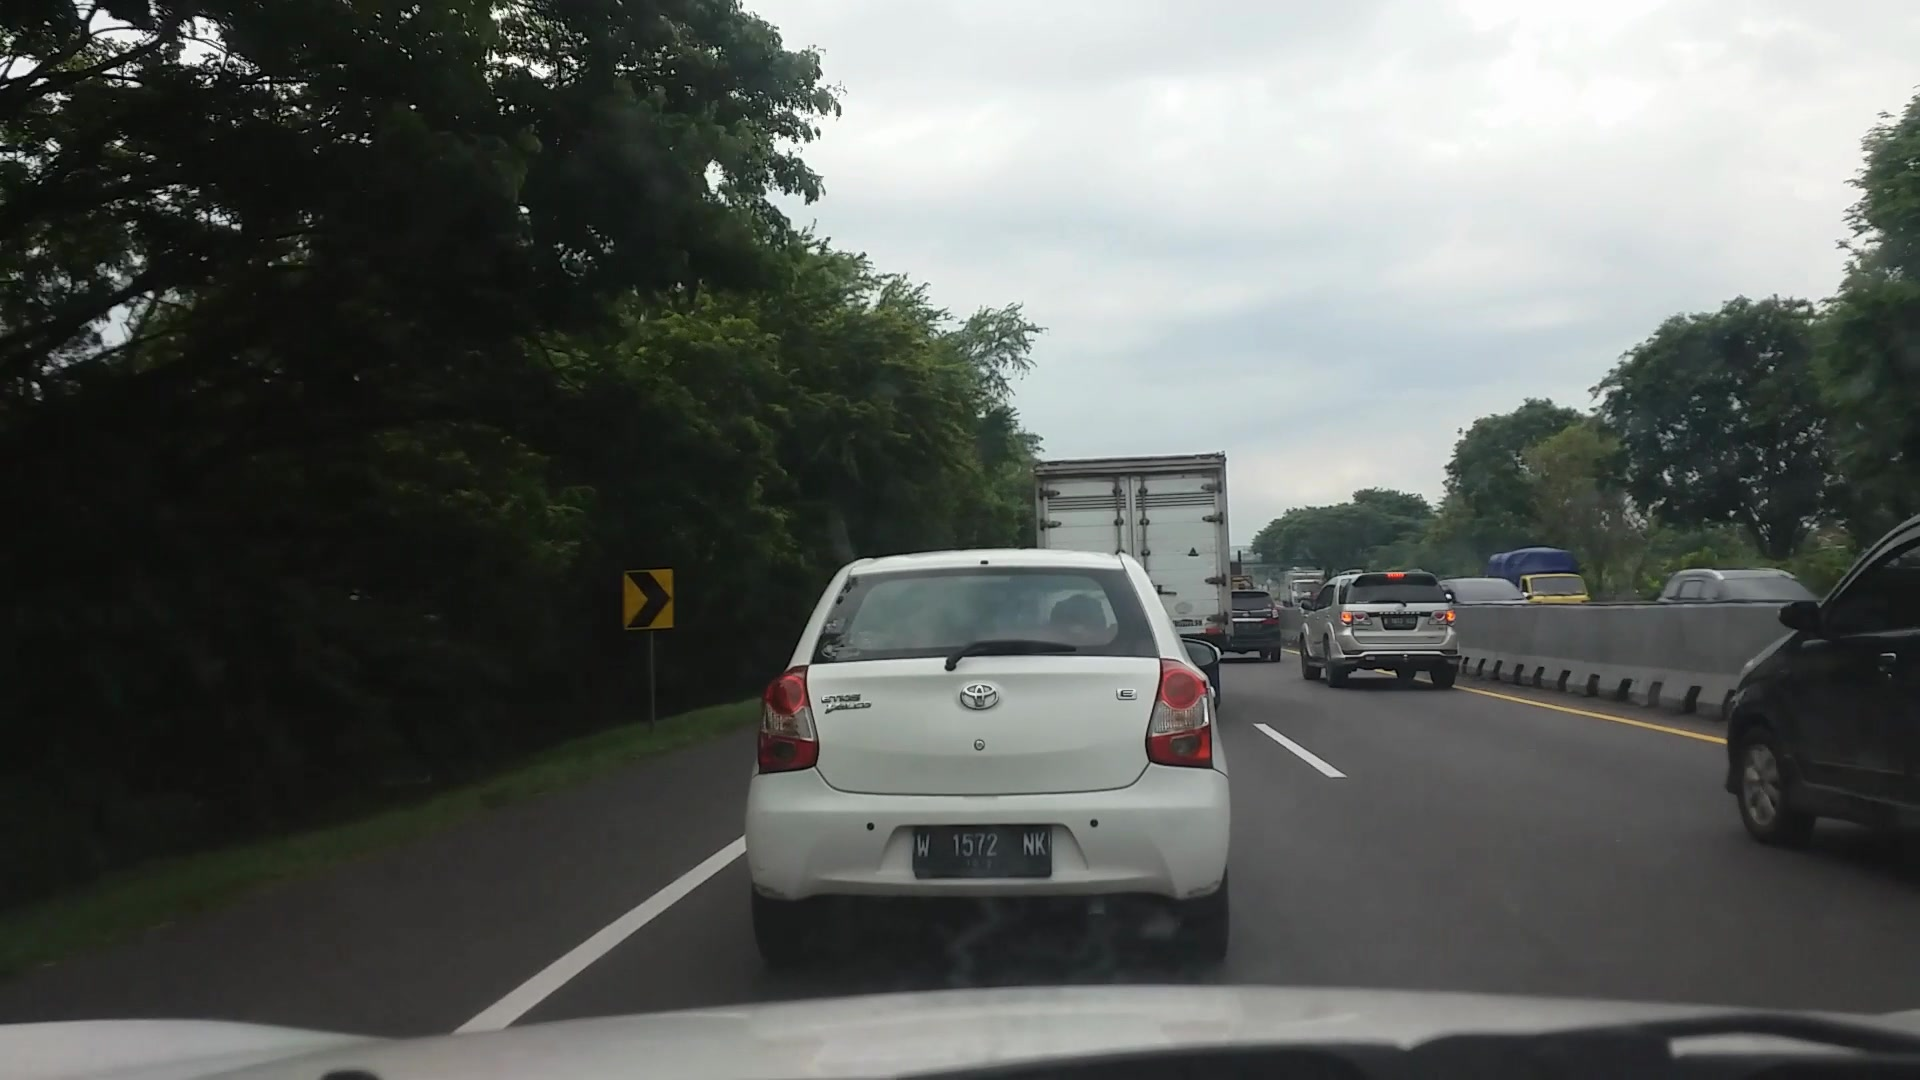plate_positive: (913, 822, 1052, 880)
